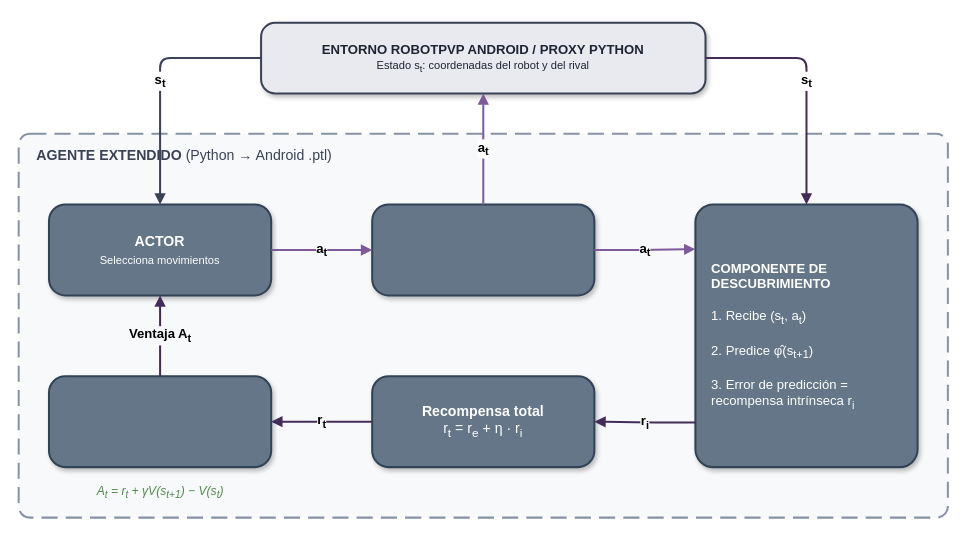
Image size: 966x535. Some labels were removed from this diagram. The shapes that lost their labels are listed below. From the top down, each one's centre as x and y in pixels, then its label:
At [484,251]: "Motor de Movimiento".
At [160,423]: "CRÍTICO Evalúa estados y acciones".
